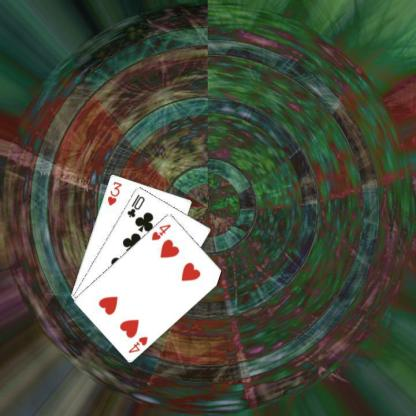10C: (124, 192, 146, 219)
3H: (105, 178, 123, 207)
4H: (149, 221, 172, 242), (125, 334, 149, 354)
